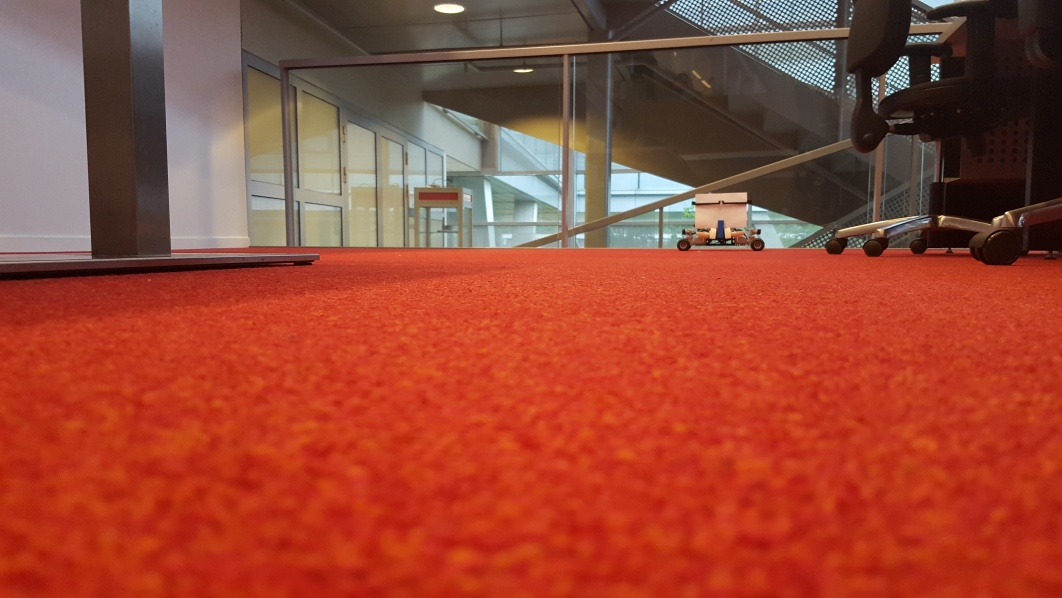car: (677, 191, 767, 250)
